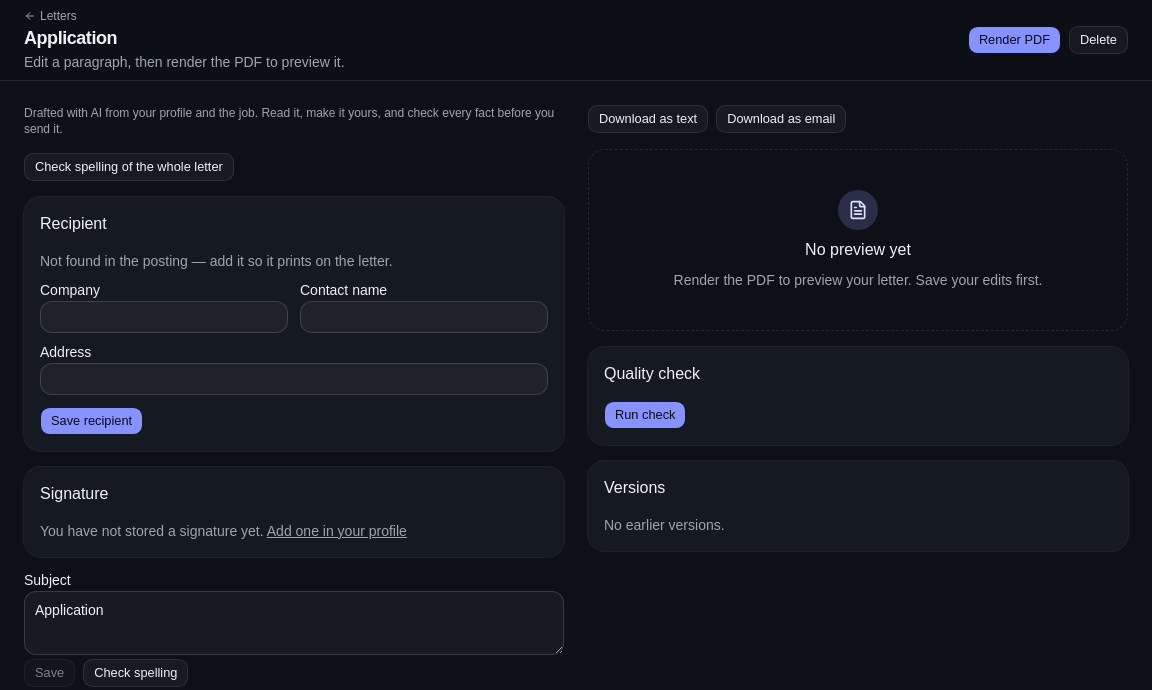
Scenario: an empty recipient shows the hint; saving PATCHes it and the letter is updated from the response
Expected: the text "Not found in the posting" is shown, x1=40 y1=253 x2=392 y2=269
Type "Acme" into the field labelled "Company". click: (164, 317)
box: x1=40 y1=301 x2=288 y2=333
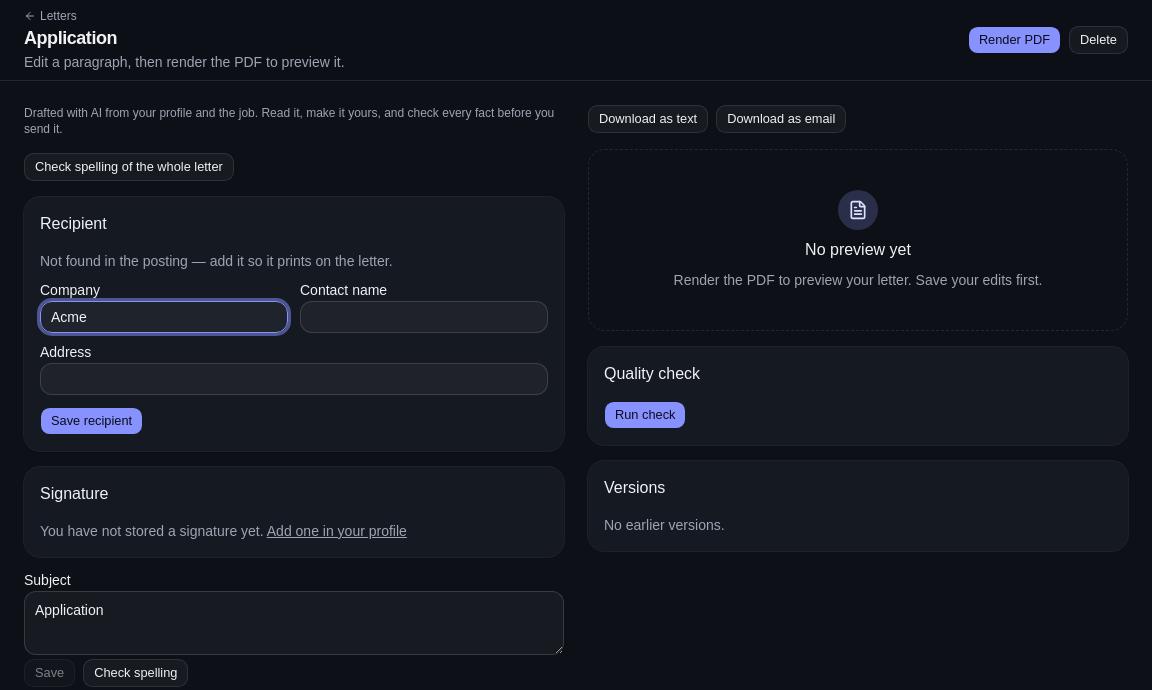
Click the button "Save recipient". click: (92, 421)
box: x1=40 y1=407 x2=143 y2=435
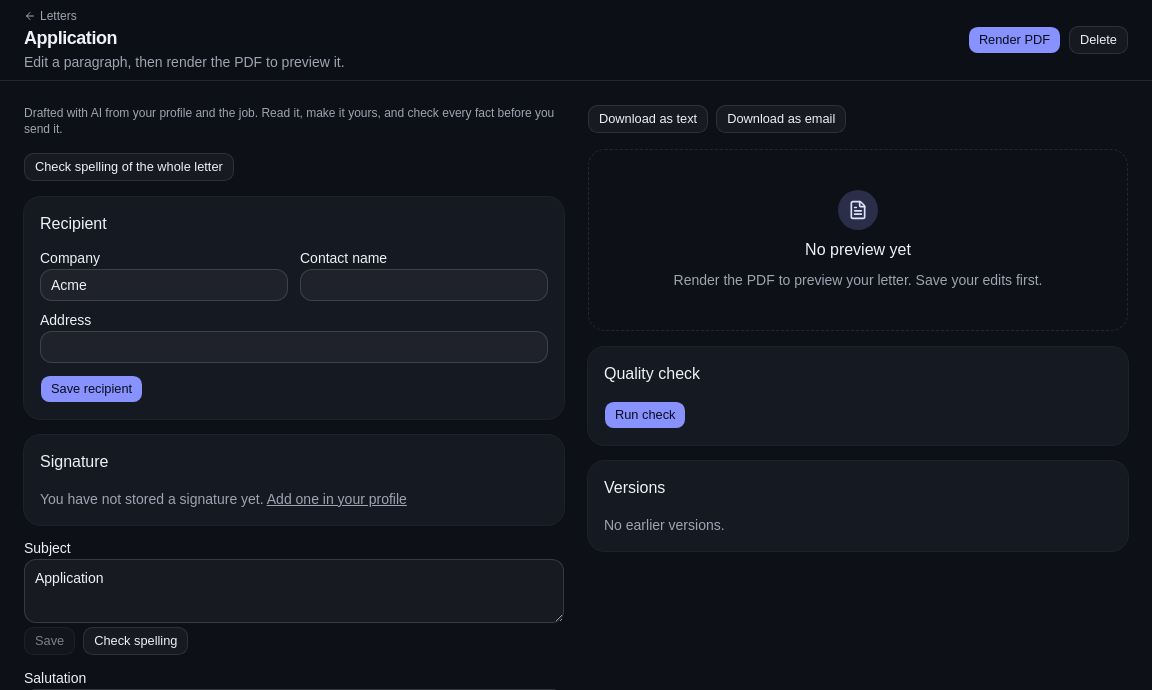
Expected: the text "Not found in the posting" is gone
